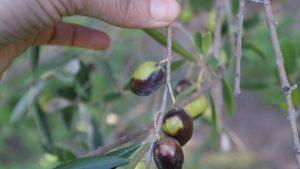Anthracnose: (160, 107, 194, 147), (130, 68, 166, 99), (151, 137, 185, 169)
